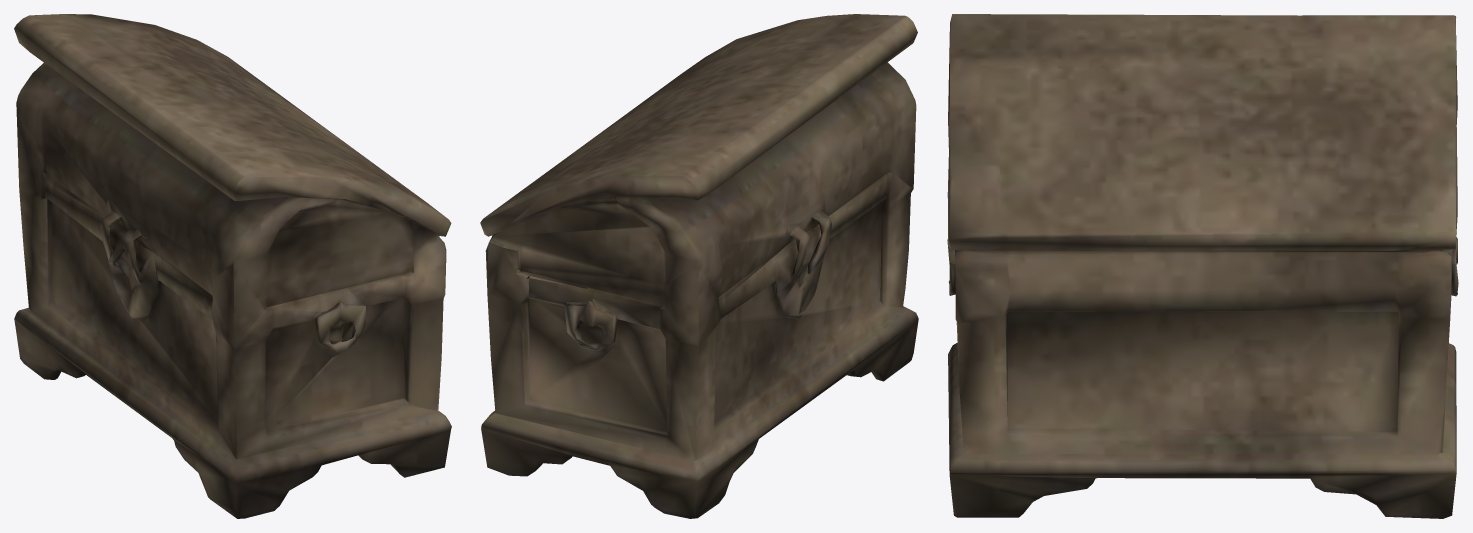
The model's file is sturdy-wood-chest-v001.glb.
3 renders of one model, left to right at view 1: azimuth 30°, elevation 25°; view 2: azimuth 150°, elevation 25°; view 3: azimuth 270°, elevation 25°, orthographic. The views are drawn at different scales.
Visible parts, largest first — view 1: sturdy-wood-chest; view 2: sturdy-wood-chest; view 3: sturdy-wood-chest.
Part boxes in pixels (x1,y1,x2,y2): sturdy-wood-chest: (14,14,451,518); sturdy-wood-chest: (480,14,918,518); sturdy-wood-chest: (947,14,1458,518).
Size of the model in its own units: 0.4901 by 0.6967 by 0.8214.
1 material, 1 textured.
